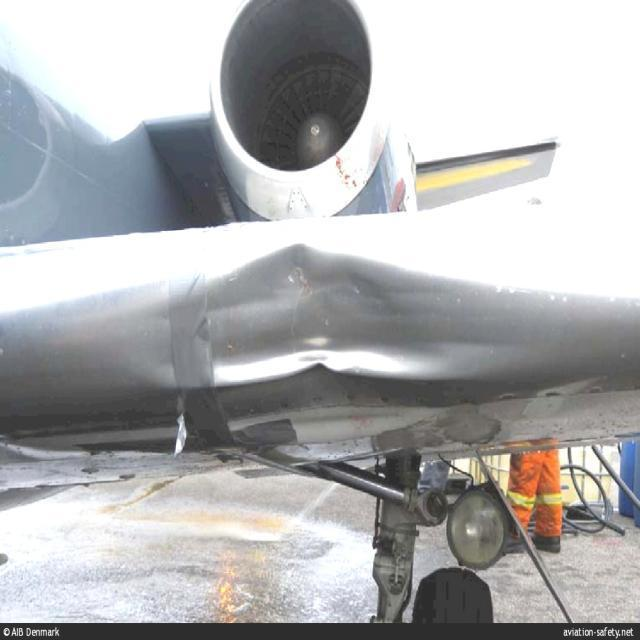dent: (150, 242, 528, 391)
